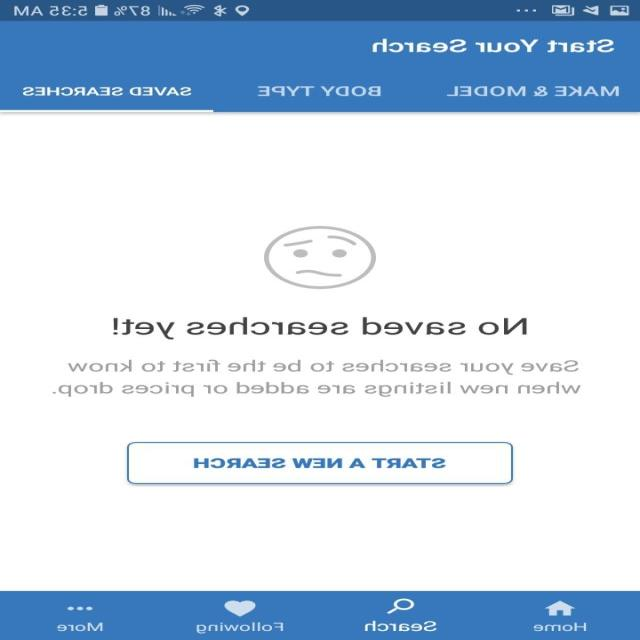Icon: (544, 599, 576, 616), (224, 600, 257, 616), (387, 597, 415, 614)
Image: (264, 225, 377, 289)
Text: (52, 358, 582, 397), (113, 316, 528, 340), (372, 38, 616, 53), (447, 85, 620, 96), (23, 87, 193, 96), (258, 85, 382, 96), (196, 621, 284, 634), (364, 620, 438, 632), (534, 621, 588, 631), (57, 622, 104, 632)
TextButton: (127, 442, 514, 484)
